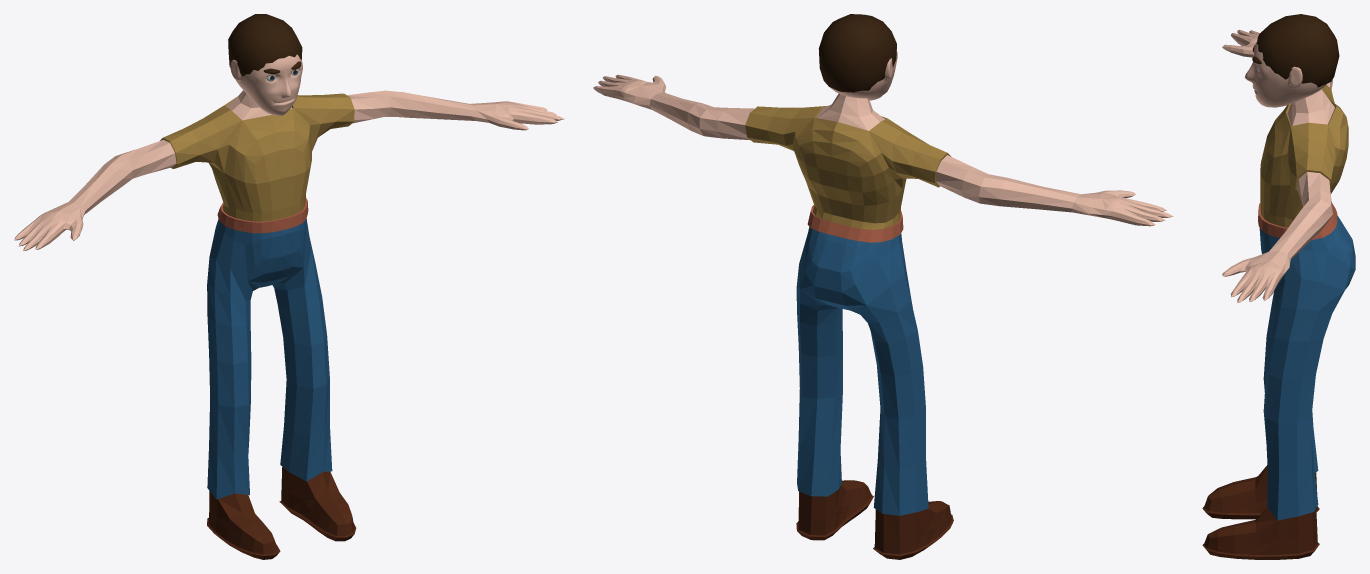
The model's file is CHARACTER1.fbx.
The picture shows the model from 3 angles, left to right: view 1: azimuth 30°, elevation 25°; view 2: azimuth 150°, elevation 25°; view 3: azimuth 270°, elevation 25°; orthographic projection. The views are drawn at different scales.
Parts seen in each view (by area): view 1: BODY, HAIR1, HEAD; view 2: BODY, HAIR1, HEAD; view 3: BODY, HAIR1, HEAD.
Part boxes in pixels (x1,y1,x2,y2): BODY: (14, 90, 564, 559); HAIR1: (228, 14, 302, 76); HEAD: (230, 54, 302, 115); BODY: (593, 74, 1173, 559); HAIR1: (818, 14, 896, 92); HEAD: (830, 50, 897, 100); BODY: (1202, 30, 1355, 559); HAIR1: (1257, 14, 1339, 87); HEAD: (1244, 41, 1326, 107).
Size of the model in its own units: 13.94 by 12.28 by 3.31.
